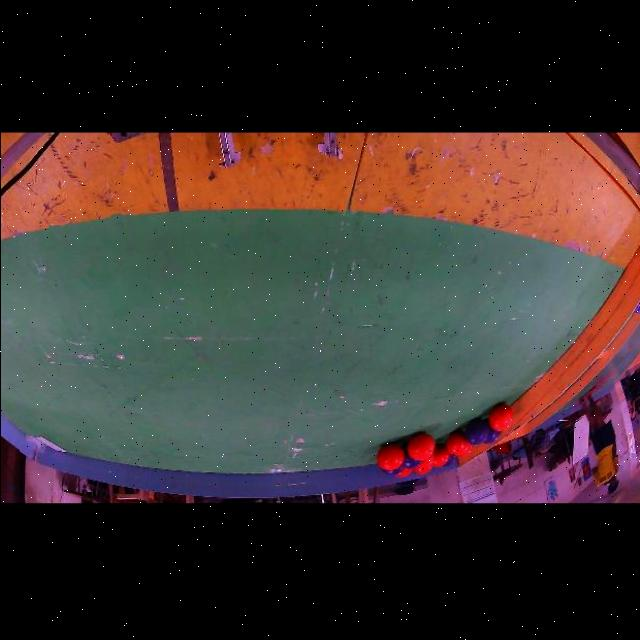P: (463, 417, 488, 444), (401, 445, 421, 467), (483, 425, 499, 443), (382, 465, 403, 475), (443, 454, 455, 466)
R: (406, 431, 435, 460), (375, 442, 404, 470), (488, 403, 512, 430), (445, 430, 471, 454), (432, 443, 449, 466), (417, 453, 434, 467), (458, 444, 474, 456), (412, 465, 431, 474), (395, 467, 412, 476)
